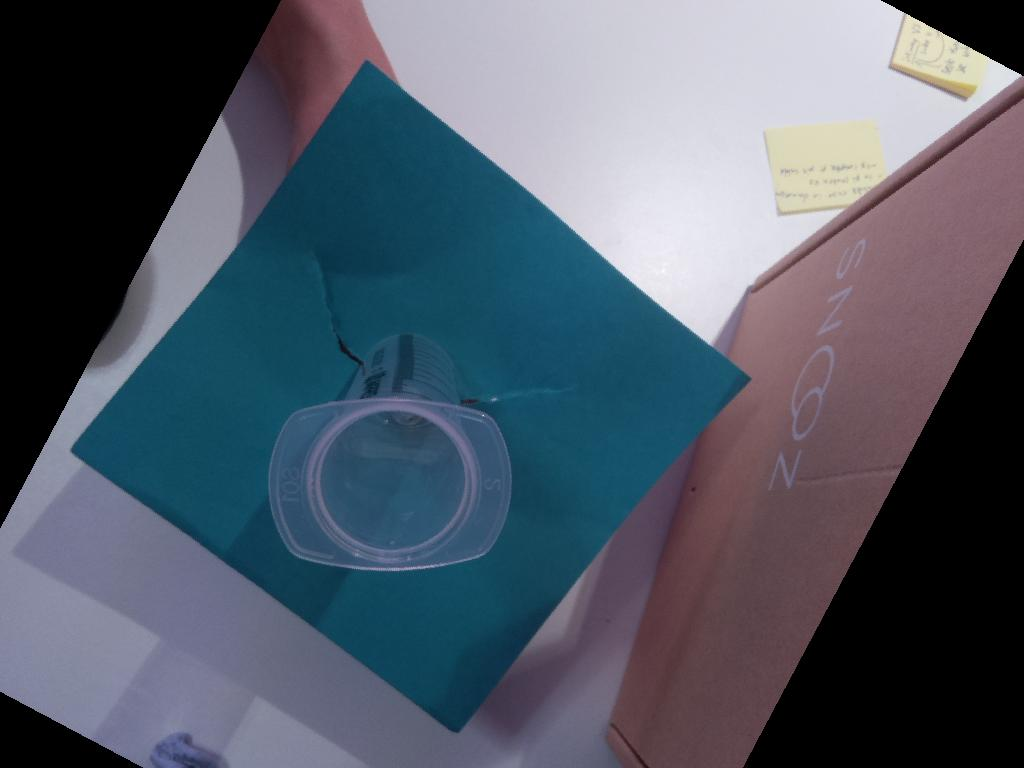clean: (268, 393, 516, 564)
